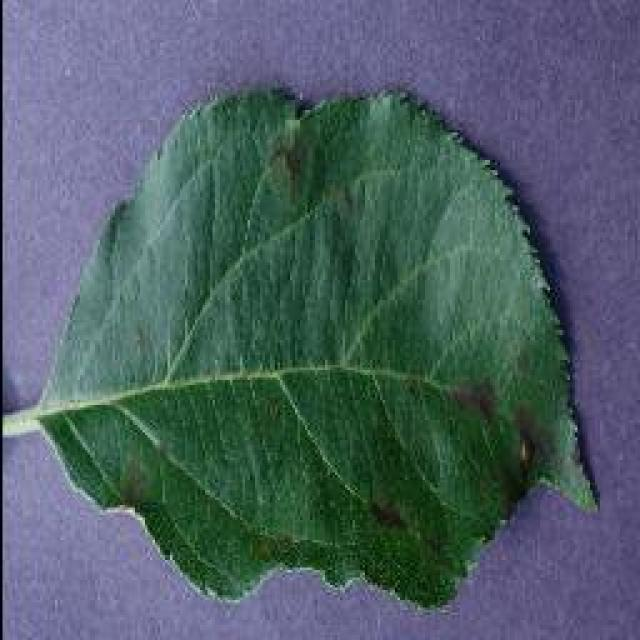apple scab disease: (28, 80, 600, 610)
